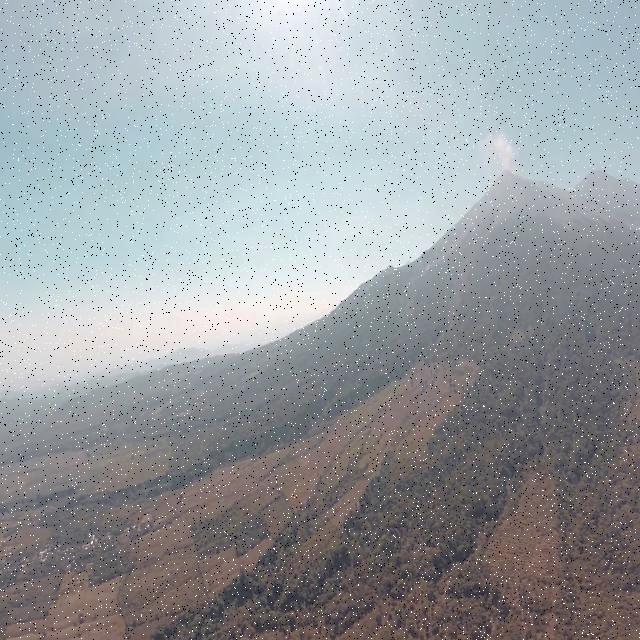Plume: (482, 126, 518, 170)
Summit: (493, 166, 519, 187)
